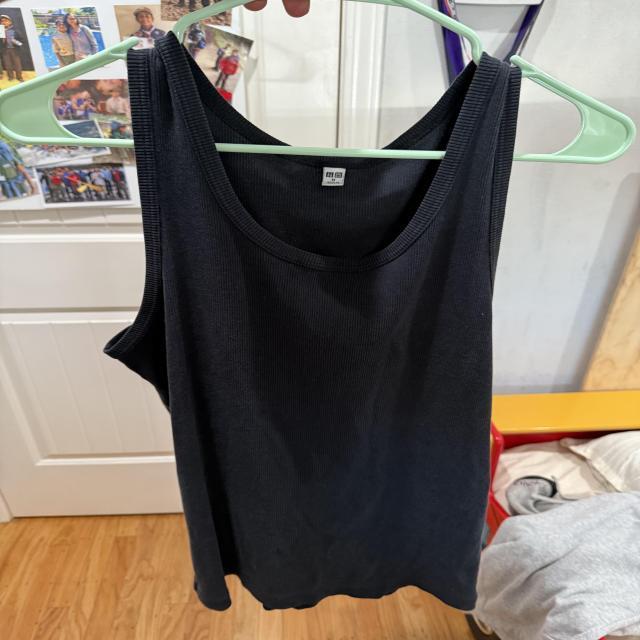back_tag: (318, 163, 348, 188)
